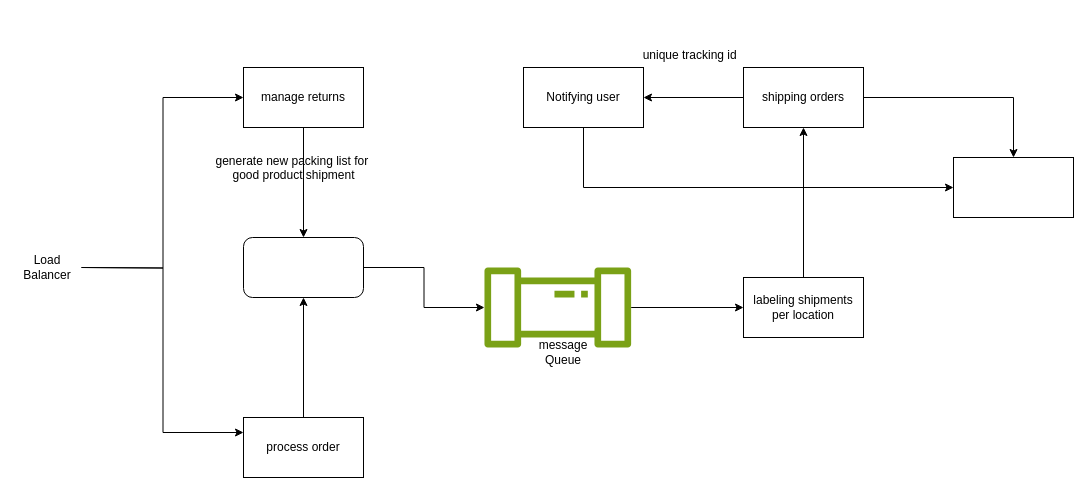
Some shapes in this 1091 by 495 pixel diagram are drawn without their labels. The centre of each missing label's shape, as x and y in pixels:
generate packing list: point 303,267
Tracking system: point 1013,187
